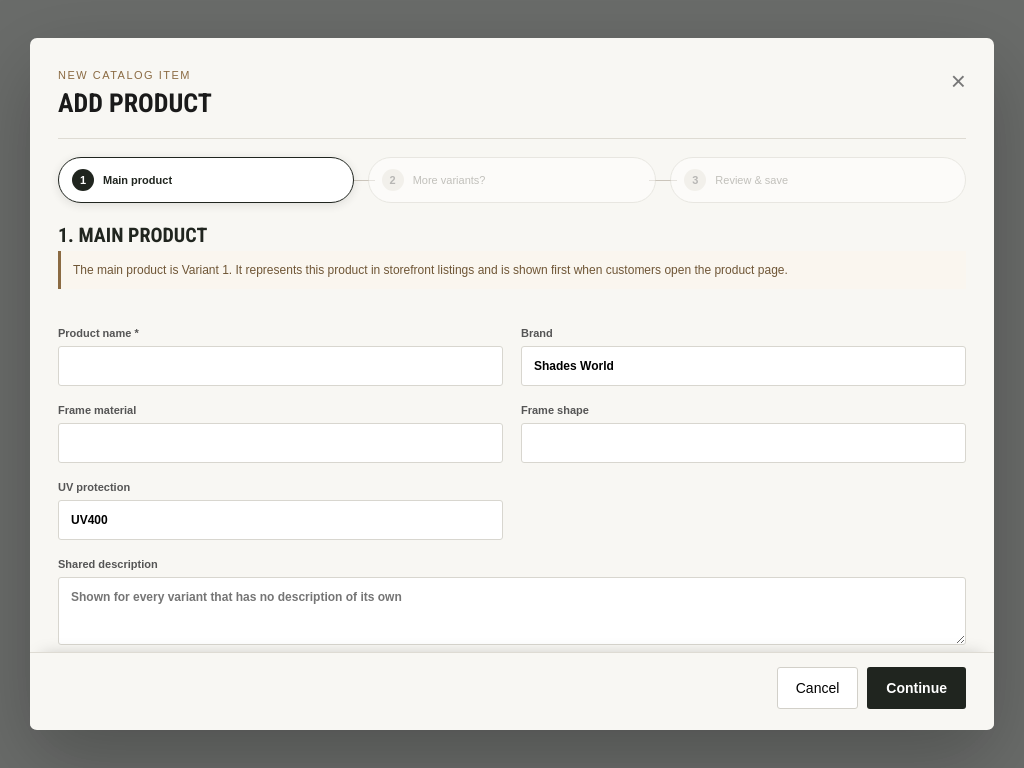
step 1 explains the Main Product and refuses to continue with missing fields
Check: the text "The main product is Variant 1" is shown, box [73,263,788,277]
Click the button "Continue".
click(917, 689)  # box [867,668,966,710]
(page scrolled)
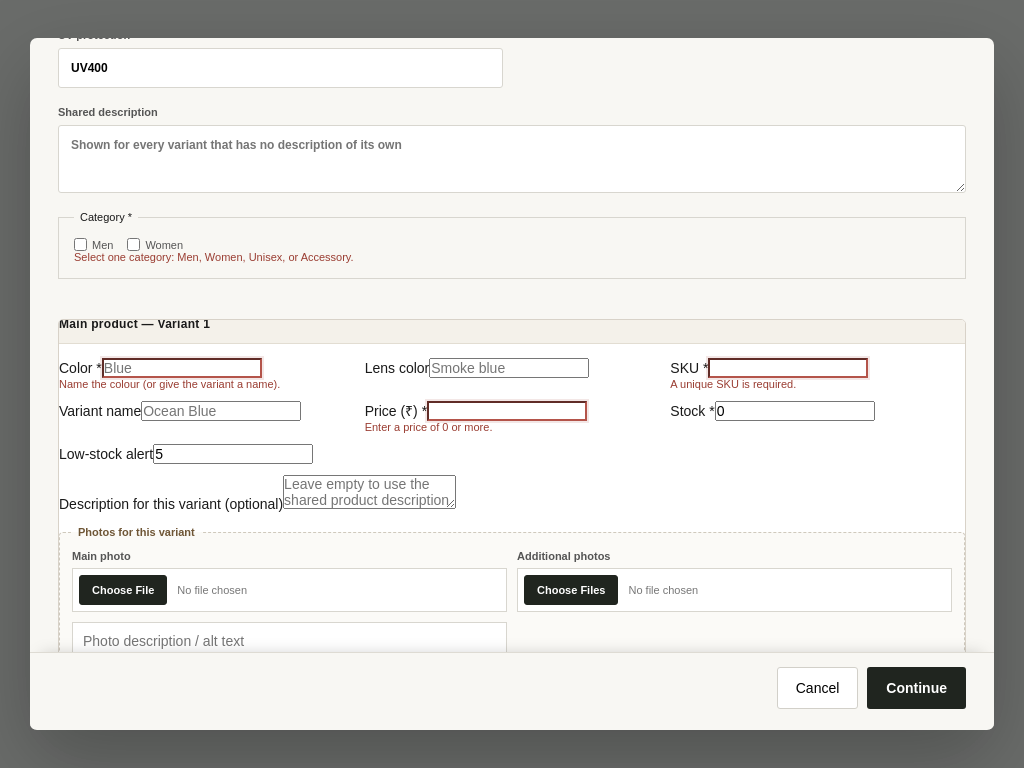
Check: the text "A unique SKU is required." is shown, box [670,378,796,390]
